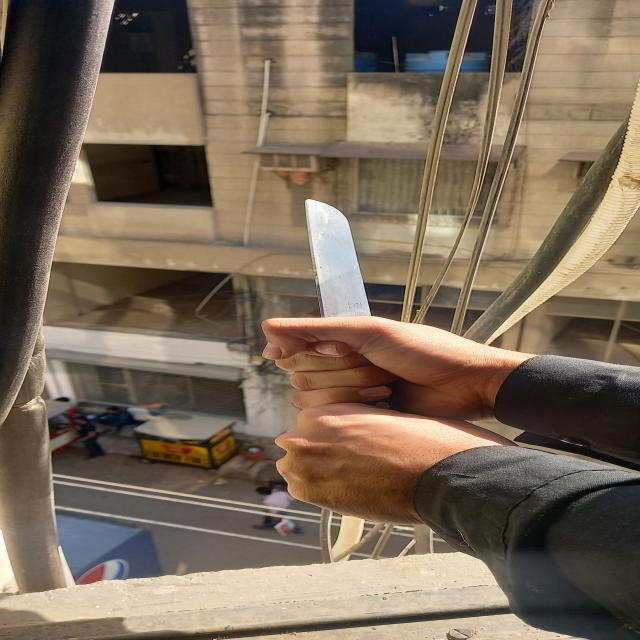weapon: (294, 188, 397, 397)
